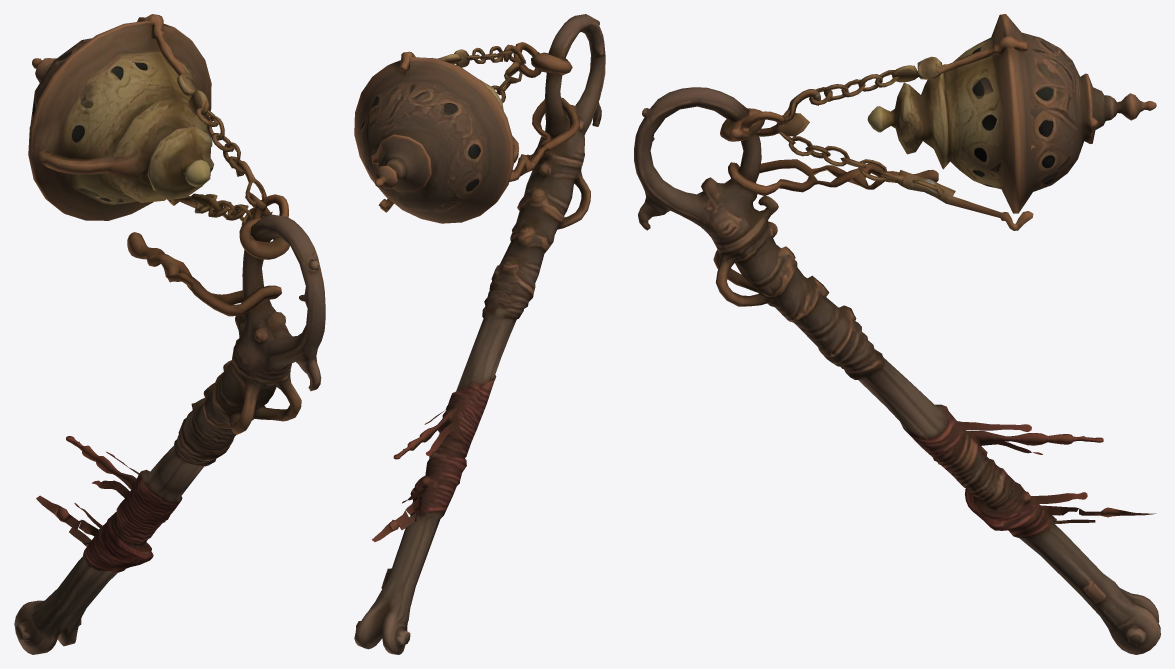
File: censer.glb
3 views of the same model, side by side, from view 1: azimuth 30°, elevation 25°; view 2: azimuth 150°, elevation 25°; view 3: azimuth 270°, elevation 25° (orthographic). The views are drawn at different scales.
Visible parts, largest first — view 1: tripo_node_dd7cbc86-983c-474c-b973-d3873fe9135d; view 2: tripo_node_dd7cbc86-983c-474c-b973-d3873fe9135d; view 3: tripo_node_dd7cbc86-983c-474c-b973-d3873fe9135d.
Boxes of the visible parts, x1,y1,x2,y2 form: tripo_node_dd7cbc86-983c-474c-b973-d3873fe9135d: (14,14,325,654); tripo_node_dd7cbc86-983c-474c-b973-d3873fe9135d: (354,14,605,654); tripo_node_dd7cbc86-983c-474c-b973-d3873fe9135d: (634,14,1160,654).
Bounding box in the file's own units: 0.2907 × 1 × 0.7626.
1 material, 1 textured.
